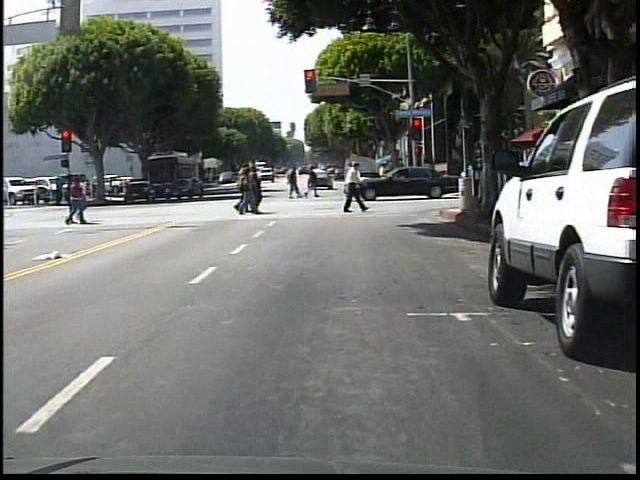person: (341, 158, 370, 219)
